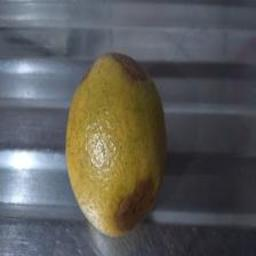Orange Semirotten: (53, 47, 177, 237)
